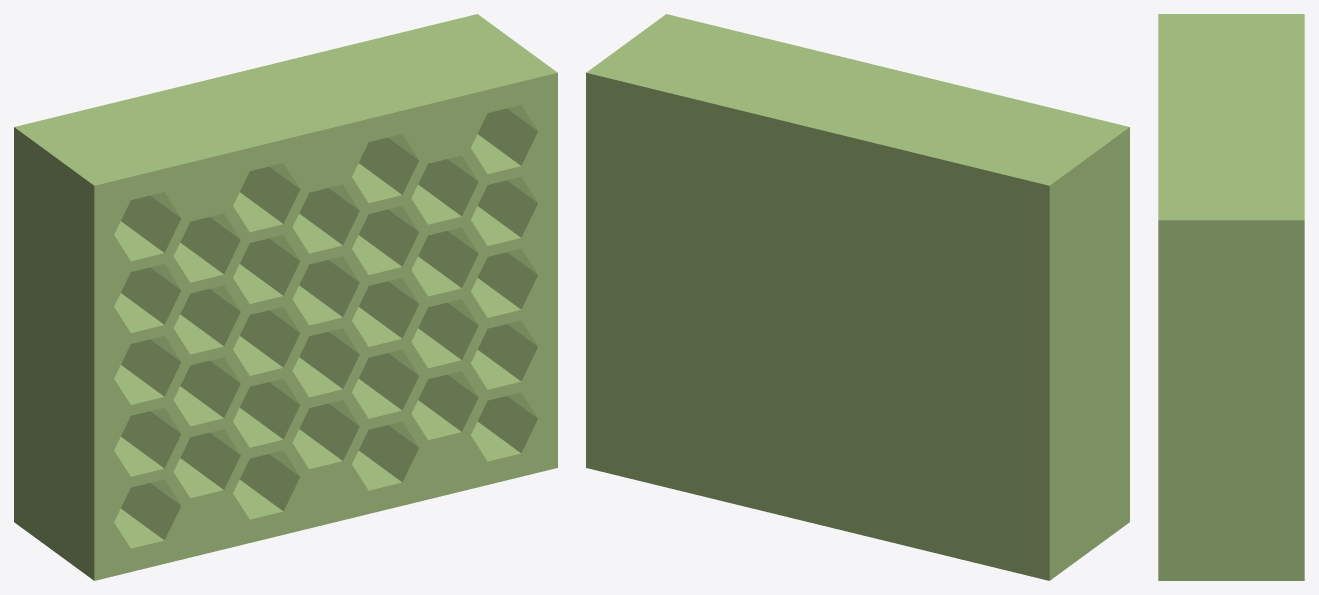
The model's file is honeycomb_core_demo.glb.
3 renders of one model, left to right at view 1: azimuth 30°, elevation 25°; view 2: azimuth 150°, elevation 25°; view 3: azimuth 270°, elevation 25°, orthographic. The views are drawn at different scales.
Parts seen in each view (by area): view 1: honeycomb_core; view 2: honeycomb_core; view 3: honeycomb_core.
Boxes of the visible parts, left/top/right/bottom form: honeycomb_core: left=14, top=14, right=557, bottom=580; honeycomb_core: left=586, top=14, right=1129, bottom=580; honeycomb_core: left=1158, top=14, right=1304, bottom=580.
Size of the model in its own units: 54 by 44 by 16.2.
